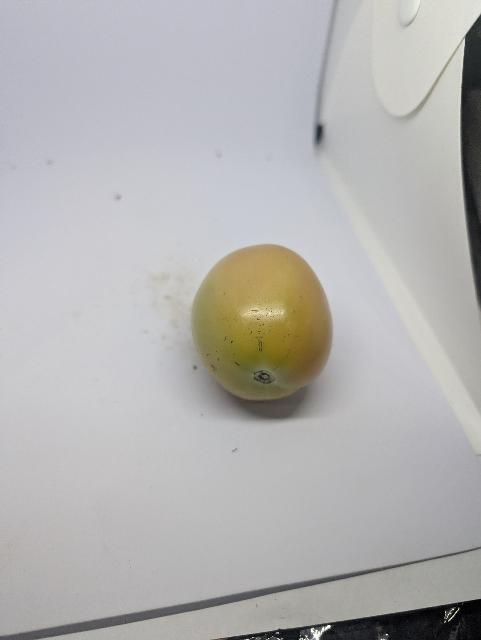breaker: (192, 244, 333, 400)
